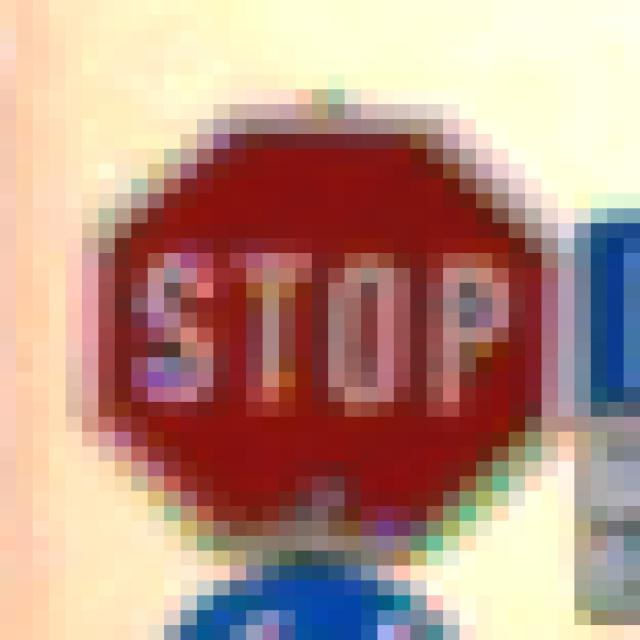STOP: (83, 90, 559, 567)
